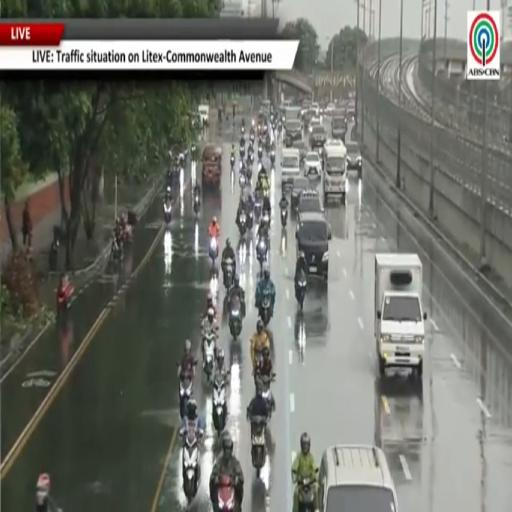car: (318, 445, 398, 511), (296, 213, 331, 280), (297, 189, 323, 217), (281, 149, 300, 187), (345, 141, 363, 179), (291, 176, 311, 210), (285, 120, 302, 147), (304, 152, 321, 177), (292, 139, 308, 164), (331, 116, 347, 141), (310, 125, 326, 150), (198, 103, 209, 126), (309, 117, 320, 134), (303, 109, 314, 125), (325, 139, 344, 147), (302, 100, 311, 115), (325, 103, 335, 115), (312, 103, 320, 116)
motorcycle: (183, 423, 199, 502), (250, 416, 266, 477), (294, 472, 316, 511), (212, 377, 226, 436), (259, 374, 275, 418), (218, 475, 236, 511), (179, 376, 193, 419), (203, 331, 215, 381), (228, 297, 242, 339), (57, 282, 73, 315), (295, 274, 306, 311), (259, 294, 271, 327), (256, 237, 267, 271), (110, 236, 123, 264), (224, 259, 234, 292), (209, 237, 218, 265), (238, 211, 247, 237), (255, 190, 262, 218), (164, 203, 172, 226), (261, 211, 270, 230), (194, 194, 200, 215), (281, 208, 287, 228), (240, 172, 246, 188), (191, 146, 197, 161), (246, 167, 252, 181), (270, 150, 275, 165), (258, 146, 263, 161), (240, 146, 245, 159), (231, 155, 235, 170), (239, 160, 244, 172), (248, 153, 253, 165), (250, 133, 254, 146), (248, 146, 253, 154), (241, 126, 245, 135)
truck: (375, 253, 426, 377), (322, 144, 346, 203), (202, 144, 222, 189)
